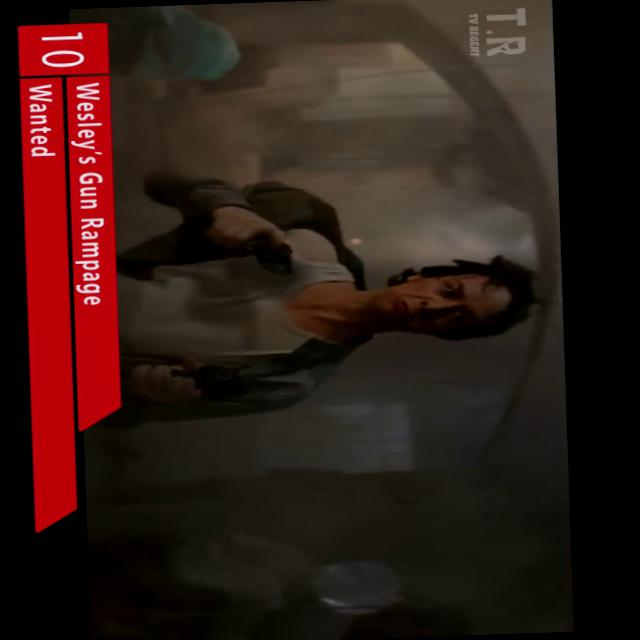handgun: (206, 223, 308, 290)
